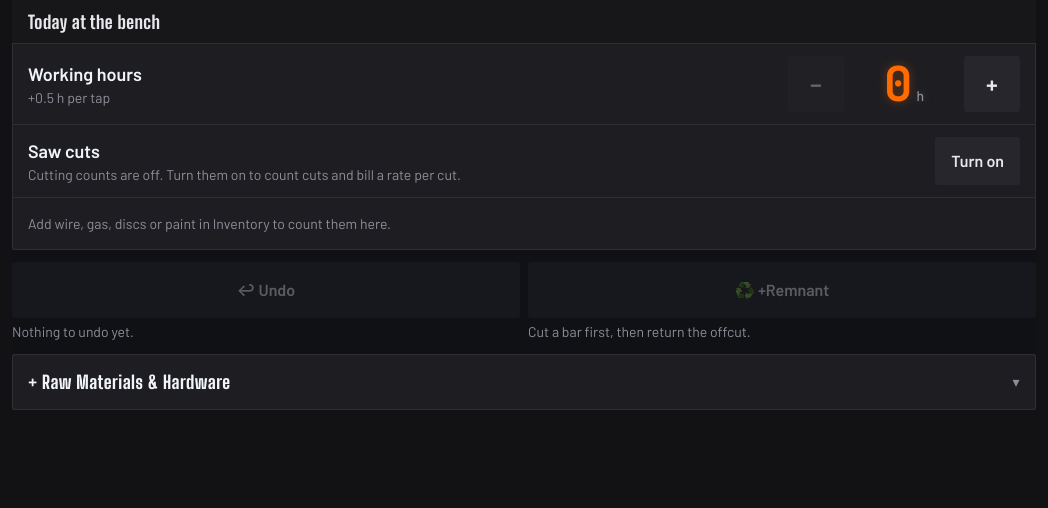
Scenario: raw materials drawer › lists a remnant piece with its length while some are left
What coordinates should you click on to do the following:
click the button "+ Raw Materials & Hardware ▾"
I would click on:
 (129, 382)
Its box is top-left (12, 354), bottom-right (1036, 410).
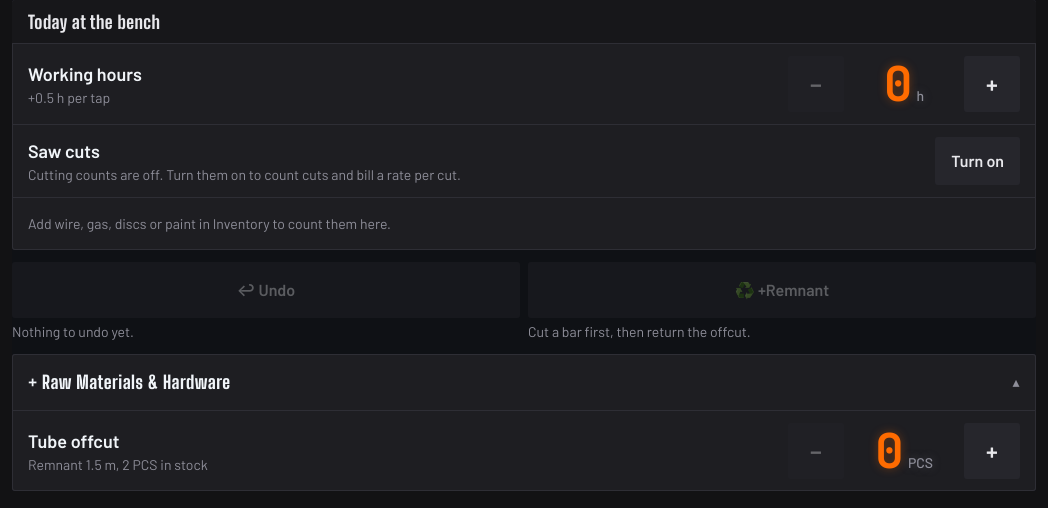
Expected: the text "Remnant 1.5 m, 2 PCS in stock" is shown, top-left (28, 455), bottom-right (208, 475)
